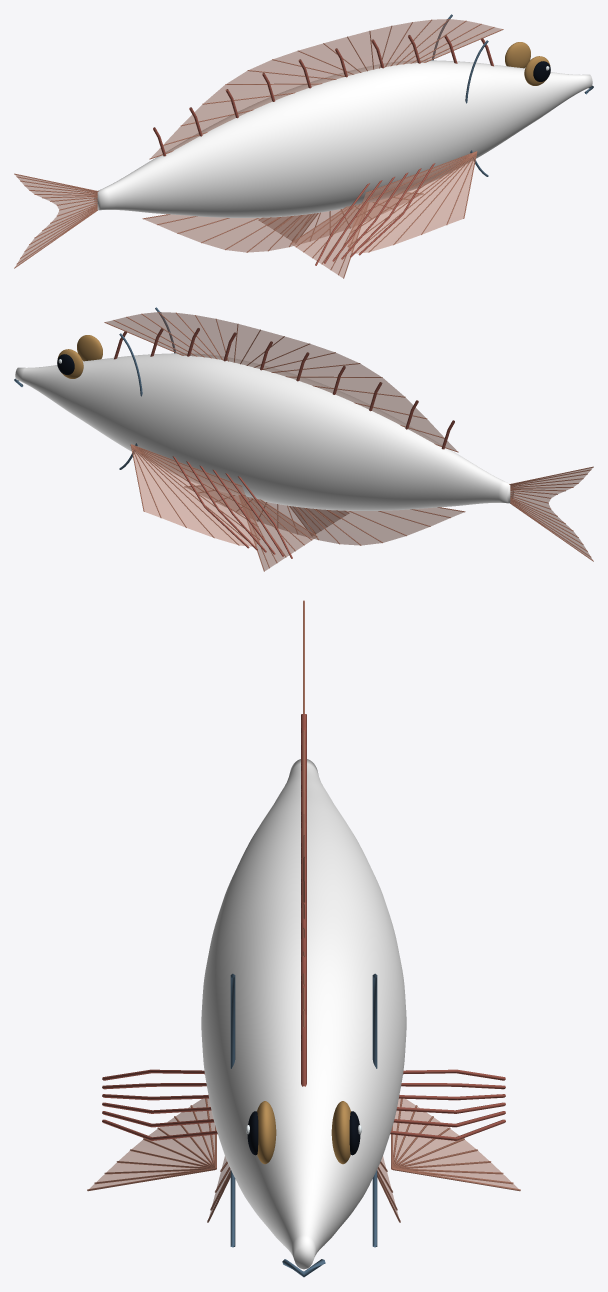
The model's file is dwarf-hawkfish.glb.
3 views of the same model, one above another, from view 1: azimuth 30°, elevation 25°; view 2: azimuth 150°, elevation 25°; view 3: azimuth 270°, elevation 25° (orthographic). The views are drawn at different scales.
Parts seen in each view (by area): view 1: Cirrhitichthys falco sculpted body, dorsal sail, pectoral -1, anal sail, caudal fan, pelvic -1, pelvic 1, iris 1, iris -1; view 2: Cirrhitichthys falco sculpted body, dorsal sail, pectoral 1, anal sail, caudal fan, pelvic 1, pelvic -1, iris -1, iris 1; view 3: Cirrhitichthys falco sculpted body, pectoral 1, pectoral -1, iris 1, iris -1, operculum seam 1, operculum seam -1.
Part boxes in pixels (box(x1,y1,x2,y2)): Cirrhitichthys falco sculpted body: box(94, 60, 592, 217); dorsal sail: box(151, 19, 502, 157); pectoral -1: box(348, 156, 475, 253); anal sail: box(144, 193, 420, 252); caudal fan: box(15, 174, 97, 266); pelvic -1: box(291, 202, 367, 277); pelvic 1: box(259, 213, 317, 240); iris 1: box(505, 42, 530, 68); iris -1: box(524, 56, 550, 85); Cirrhitichthys falco sculpted body: box(15, 353, 513, 510); dorsal sail: box(105, 312, 456, 450); pectoral 1: box(132, 449, 259, 546); anal sail: box(187, 486, 463, 545); caudal fan: box(510, 467, 592, 559); pelvic 1: box(240, 495, 316, 570); pelvic -1: box(290, 506, 348, 533); iris -1: box(77, 335, 102, 361); iris 1: box(57, 349, 83, 378); Cirrhitichthys falco sculpted body: box(201, 759, 406, 1269); pectoral 1: box(393, 1098, 518, 1188); pectoral -1: box(89, 1098, 214, 1188); iris 1: box(331, 1101, 350, 1164); iris -1: box(257, 1101, 276, 1164); operculum seam 1: box(372, 973, 377, 1247); operculum seam -1: box(230, 973, 235, 1247).
Bounding box in the file's own units: 1.67 × 0.6013 × 0.5417.
